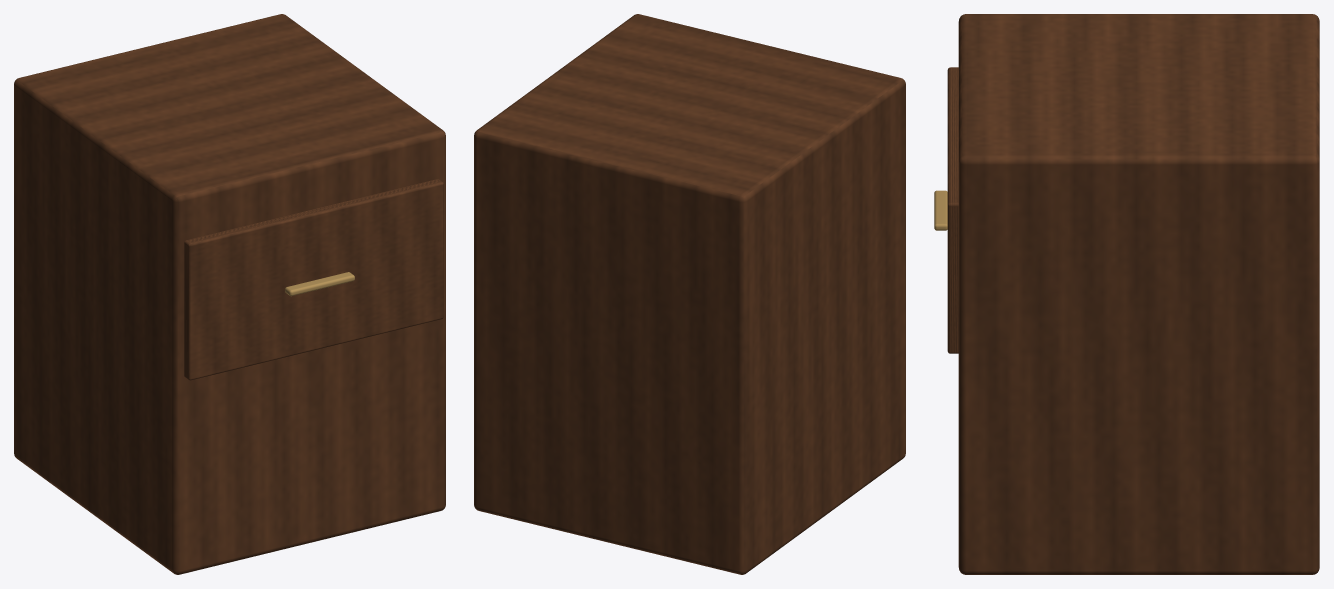
The model's file is reference-walnut-nightstand.glb.
3 views of the same model, side by side, from view 1: azimuth 30°, elevation 25°; view 2: azimuth 150°, elevation 25°; view 3: azimuth 270°, elevation 25° (orthographic). The views are drawn at different scales.
Visible parts, largest first — view 1: Walnut bedside cabinet, Drawer, Handle; view 2: Walnut bedside cabinet; view 3: Walnut bedside cabinet, Drawer, Handle.
Boxes of the visible parts, bbox=[...] form: Walnut bedside cabinet: bbox=[14, 14, 445, 574]; Drawer: bbox=[184, 179, 443, 380]; Handle: bbox=[285, 272, 354, 296]; Walnut bedside cabinet: bbox=[474, 14, 905, 574]; Walnut bedside cabinet: bbox=[958, 14, 1319, 574]; Drawer: bbox=[947, 67, 958, 353]; Handle: bbox=[934, 190, 947, 230].
Bounding box in the file's own units: 0.375 × 0.5 × 0.4165.
Materials: 2 (1 with a texture image).
